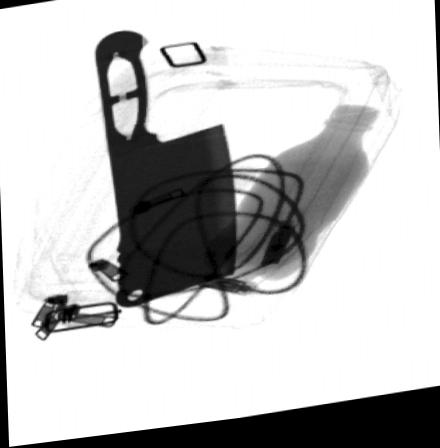Knife: (89, 29, 238, 313)
